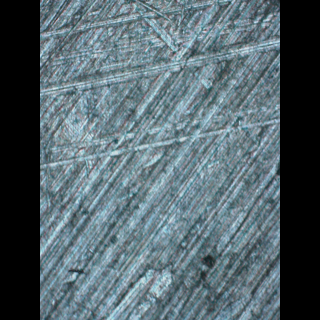d: (41, 0, 280, 176)
